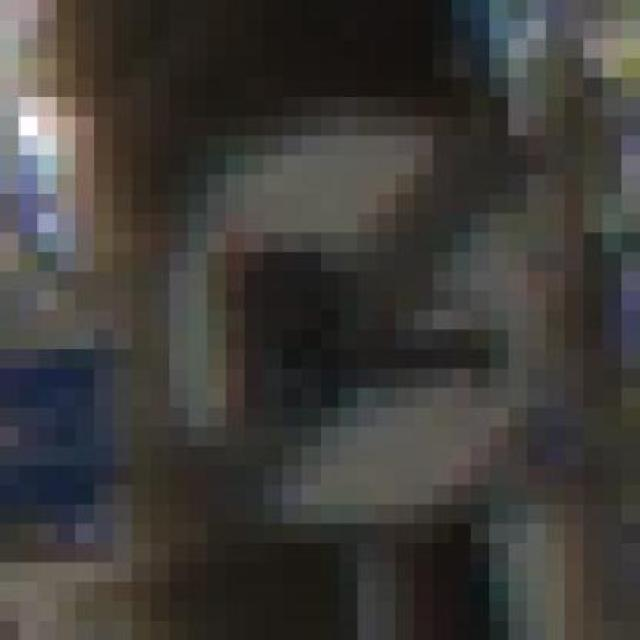Overtaking by trucks is prohibited: (113, 78, 602, 582)
